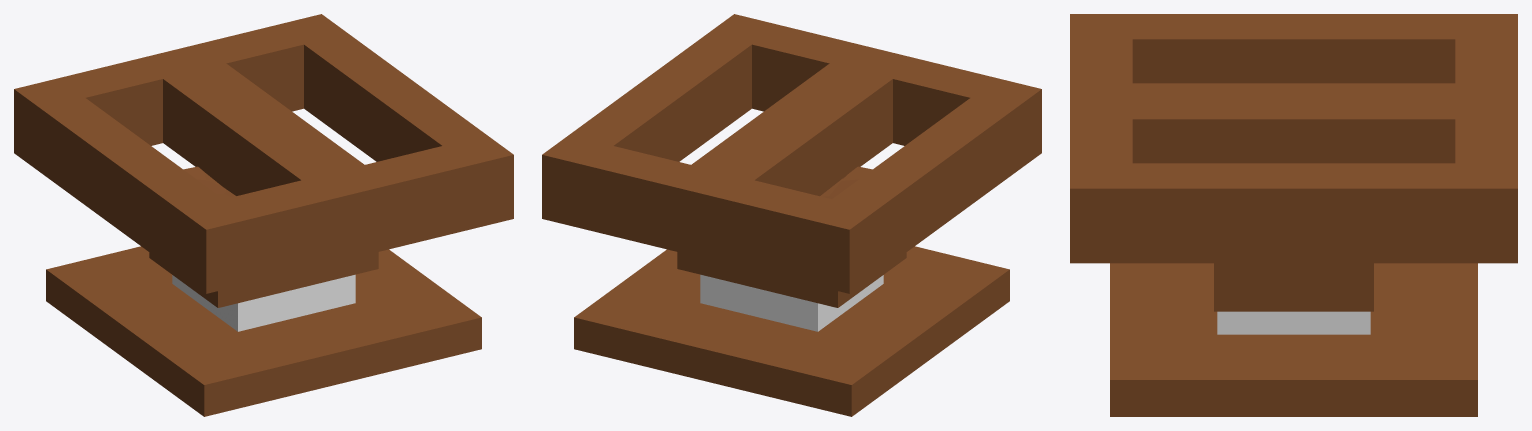
File: Press.fbx
The picture shows the model from 3 angles, left to right: view 1: azimuth 30°, elevation 25°; view 2: azimuth 150°, elevation 25°; view 3: azimuth 270°, elevation 25°; orthographic projection. The views are drawn at different scales.
Visible parts, largest first — view 1: Cube, Cube.001; view 2: Cube, Cube.001; view 3: Cube, Cube.001.
Boxes of the visible parts, x1,y1,x2,y2 form: Cube: [14, 14, 513, 307]; Cube.001: [46, 246, 481, 416]; Cube: [542, 14, 1041, 307]; Cube.001: [574, 246, 1009, 416]; Cube: [1070, 14, 1517, 311]; Cube.001: [1110, 263, 1477, 416].
Bounding box in the file's own units: 680 × 429 × 736.
